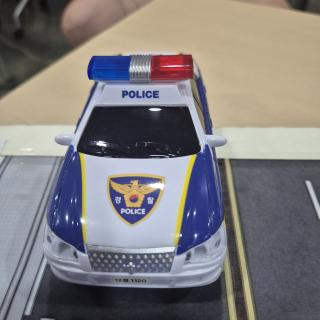Police_car: (43, 55, 227, 288)
